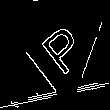P_NW: (31, 12, 89, 74)
